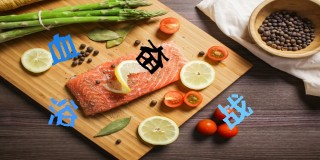奋: (136, 40, 169, 74)
战: (217, 93, 253, 129)
浴: (47, 97, 78, 127)
血: (48, 33, 80, 65)
